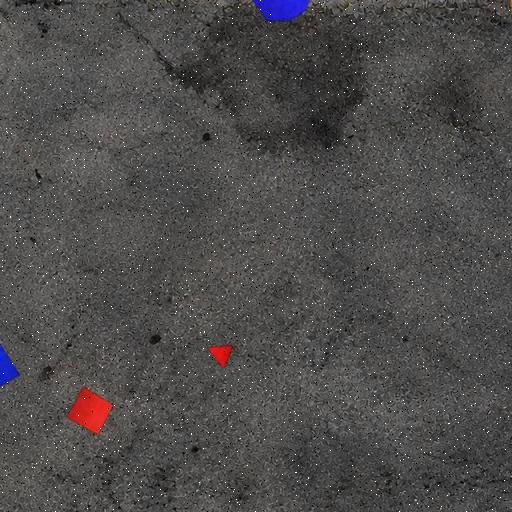RED_SQUARE: (66, 386, 114, 436)
